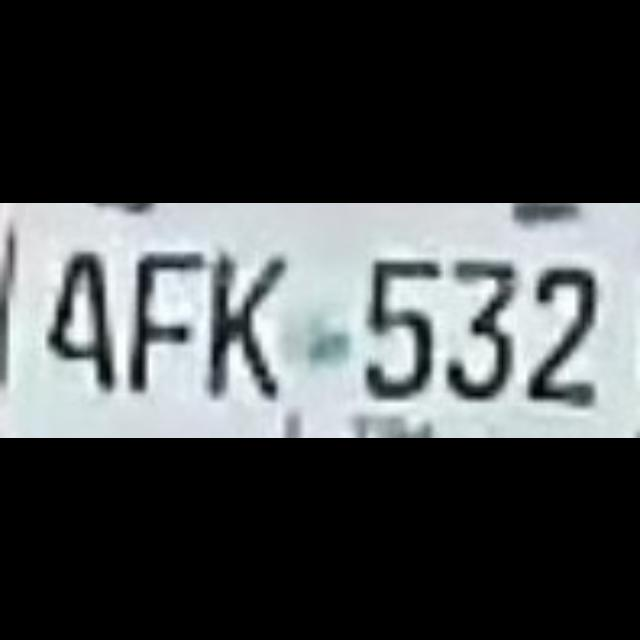2: (526, 234, 608, 412)
3: (446, 234, 526, 412)
5: (366, 234, 446, 412)
A: (41, 234, 122, 412)
F: (122, 234, 204, 412)
K: (203, 234, 284, 412)
